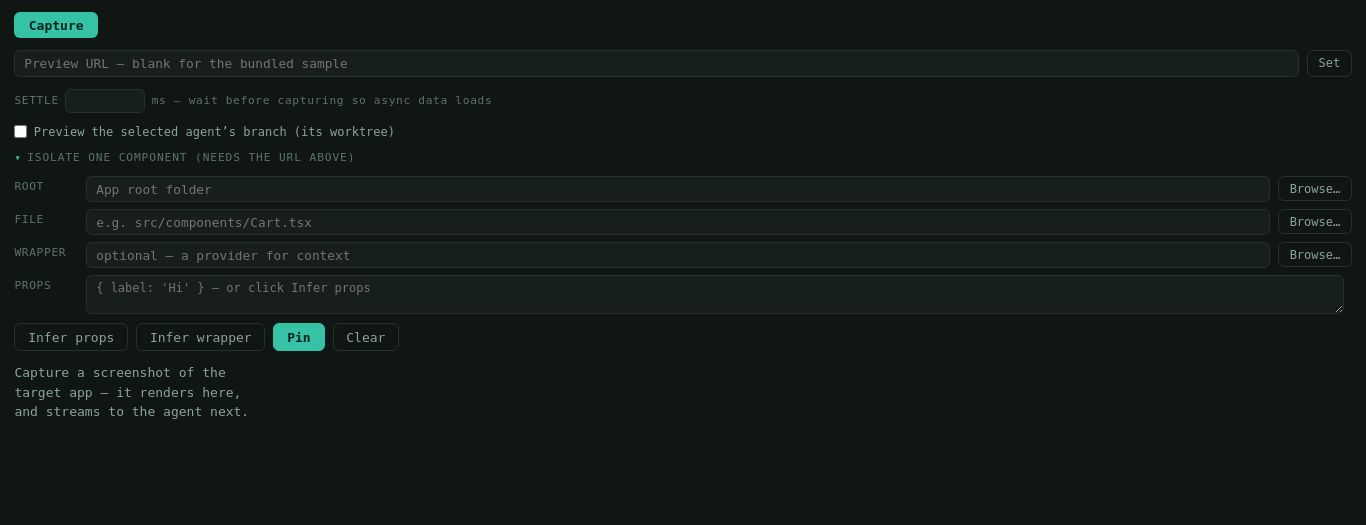
Preview › warns when the agent changed dependencies on the branch
The width and height of the screenshot is (1366, 525).
Step 1. Click the checkbox named "Preview the selected agent's branch" → (21,132), box [14,125,27,138]
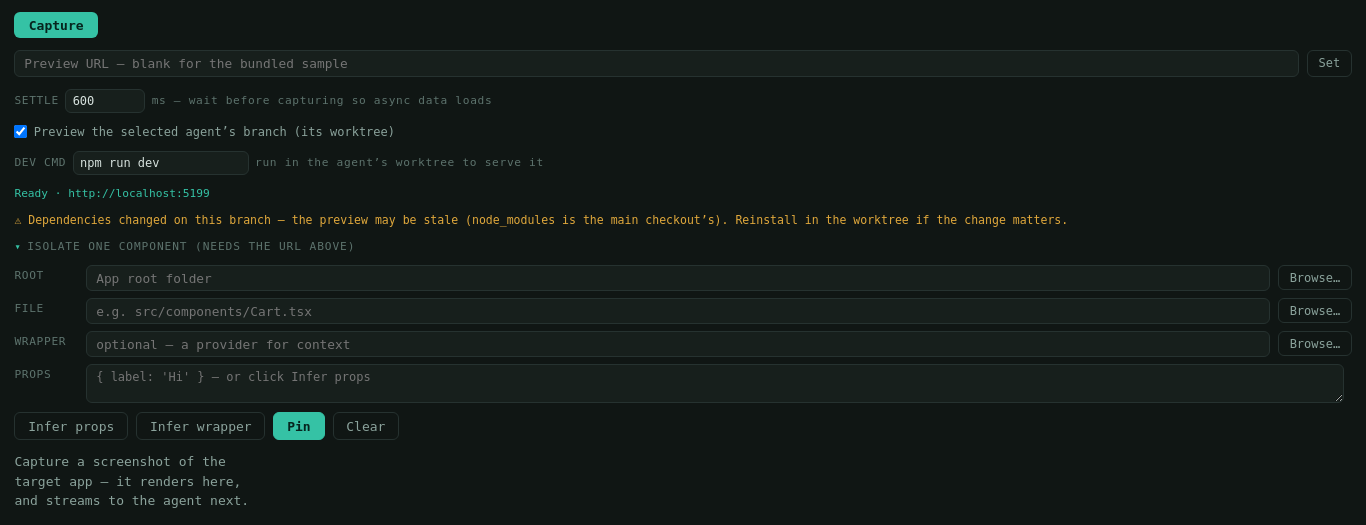
Result: the text "Dependencies changed on this branch" is shown at [14,213,1068,227]
